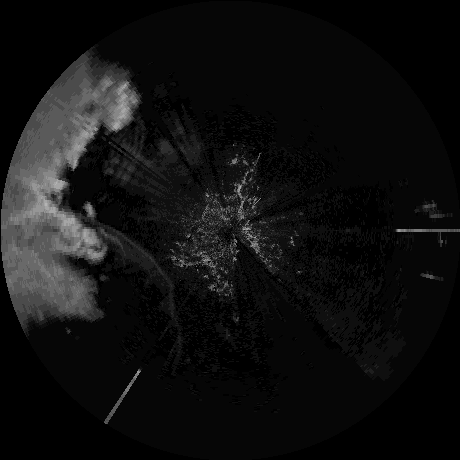frontgust: (103, 224, 183, 352)
